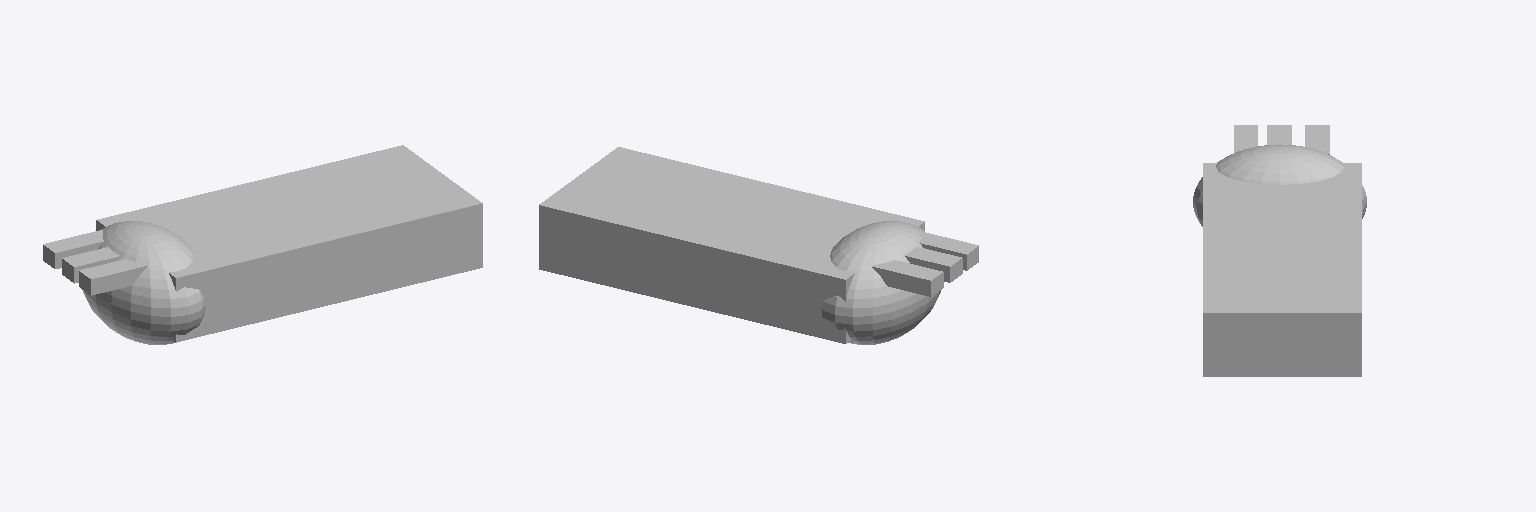
Rendered from Hand.obj.
The picture shows the model from 3 angles: view 1: azimuth 30°, elevation 25°; view 2: azimuth 150°, elevation 25°; view 3: azimuth 270°, elevation 25°; orthographic projection.
Parts seen in each view (by area): view 1: pCube1, pSphere1, pasted__pCube2 group, pasted__pCube2 group1, pCube2; view 2: pCube1, pSphere1, pasted__pCube2 group1, pCube2, pasted__pCube2 group; view 3: pCube1, pSphere1, pasted__pCube2 group1, pasted__pCube2 group.
Part boxes in pixels (x1,y1,x2,y2): pCube1: (96, 145, 482, 342); pSphere1: (83, 221, 205, 344); pasted__pCube2 group: (79, 259, 148, 295); pasted__pCube2 group1: (43, 230, 103, 268); pCube2: (62, 247, 119, 283); pCube1: (539, 147, 924, 343); pSphere1: (821, 221, 940, 344); pasted__pCube2 group1: (872, 260, 943, 296); pCube2: (904, 246, 962, 282); pasted__pCube2 group: (919, 231, 978, 270); pCube1: (1203, 163, 1361, 376); pSphere1: (1193, 144, 1366, 226); pasted__pCube2 group1: (1305, 125, 1329, 154); pasted__pCube2 group: (1234, 125, 1257, 152).
Bounding box in the file's own units: 4.24 × 1.12 × 1.7.